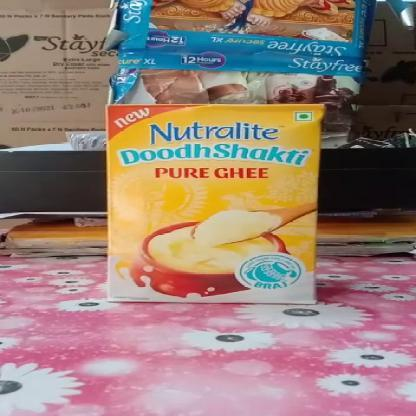Nutralite DOODHSHAKTHI PURE GHEE 1L: (108, 106, 320, 301)
